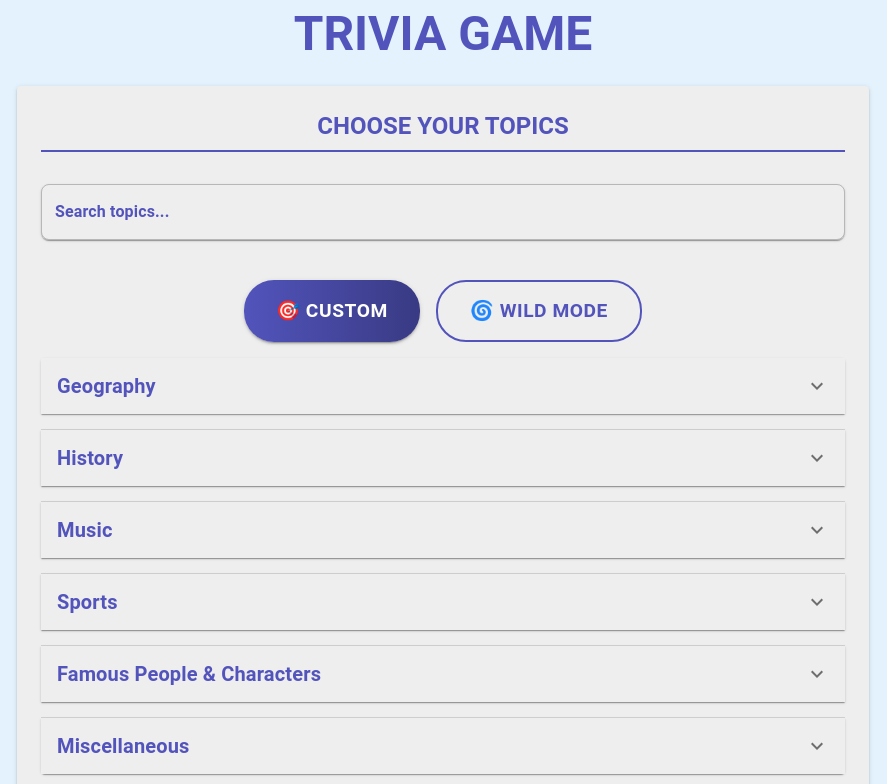
Scenario: GameTopicSelection Component › Search functionality filters topics correctly
Expected: the heading "Geography" is shown, left=57, top=370, right=156, bottom=402
Expected: the heading "History" is shown, left=57, top=442, right=123, bottom=474
# Enter search term related to History to find HISTORICAL WOMEN
Type "history" into the field labelled "Search topics..." at x=443, y=212, box left=41, top=184, right=845, bottom=240
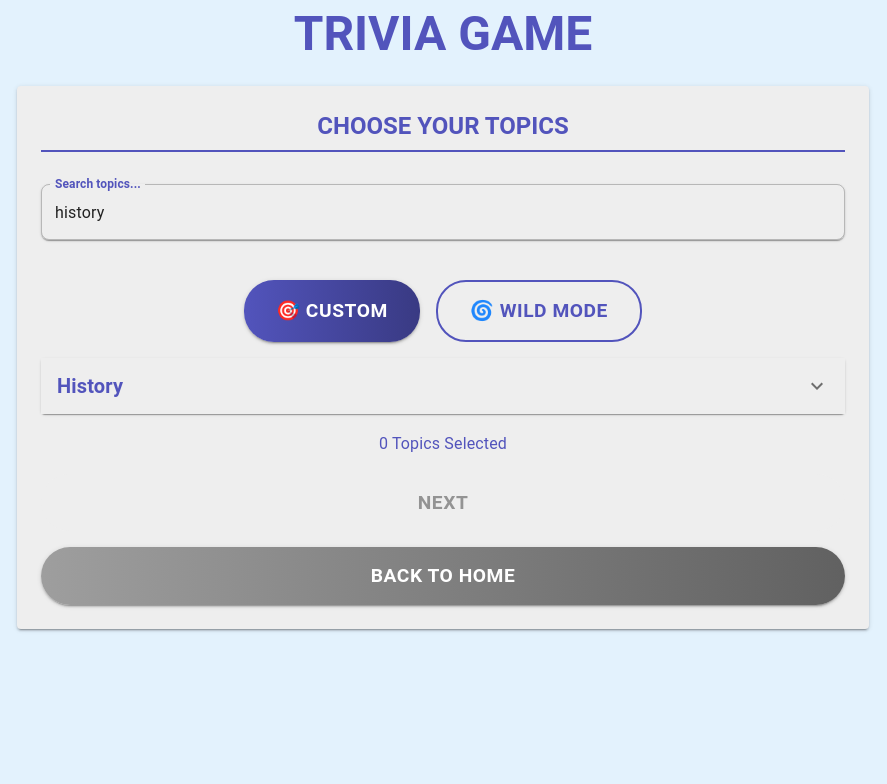
Expected: the heading "History" is shown, left=57, top=370, right=123, bottom=402
Expected: the button "Geography" is gone
# Clear search
Clear the field labelled "Search topics..." at x=443, y=212, box left=41, top=184, right=845, bottom=240
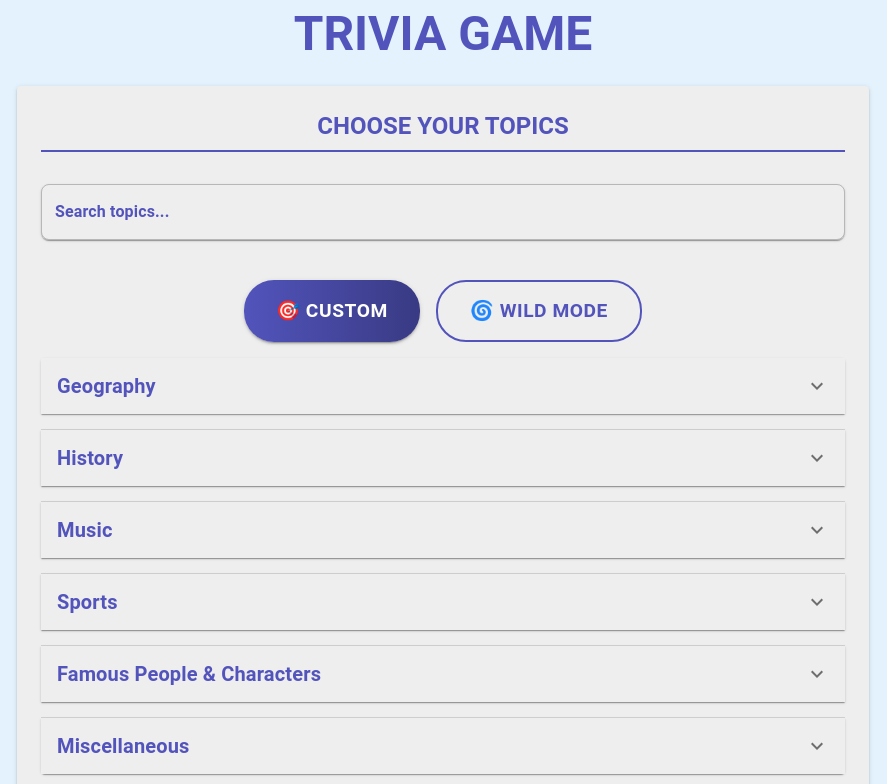
Expected: the heading "History" is shown, left=57, top=442, right=123, bottom=474
Expected: the heading "Geography" is shown, left=57, top=370, right=156, bottom=402
